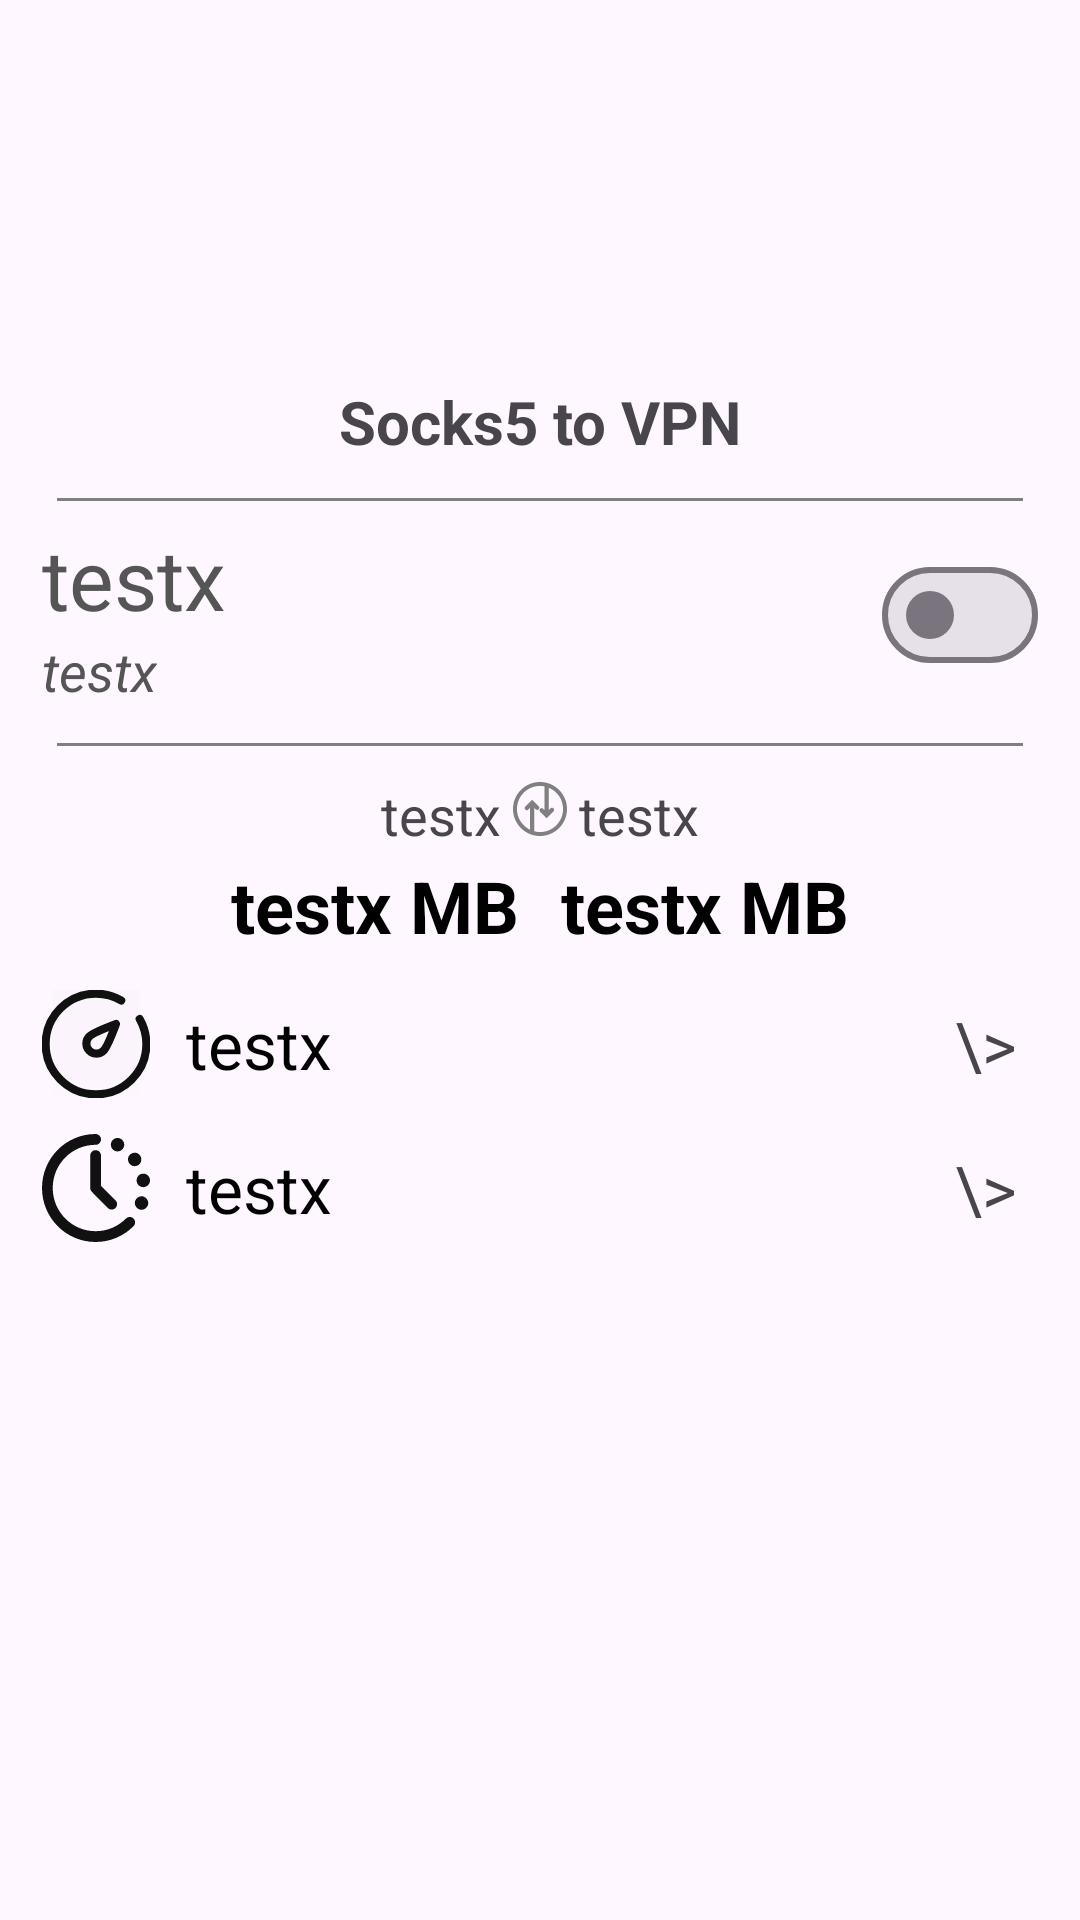

Icons on this 1080x1920 Android screen, each with the point to tap as point (x, y):
clock: point (96, 1188)
speed: point (96, 1044)
upndown: point (540, 809)
